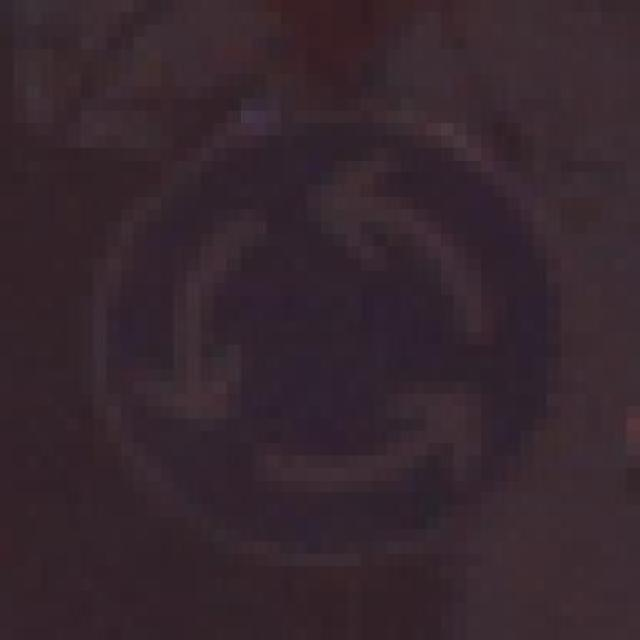Round-About: (67, 74, 587, 578)
